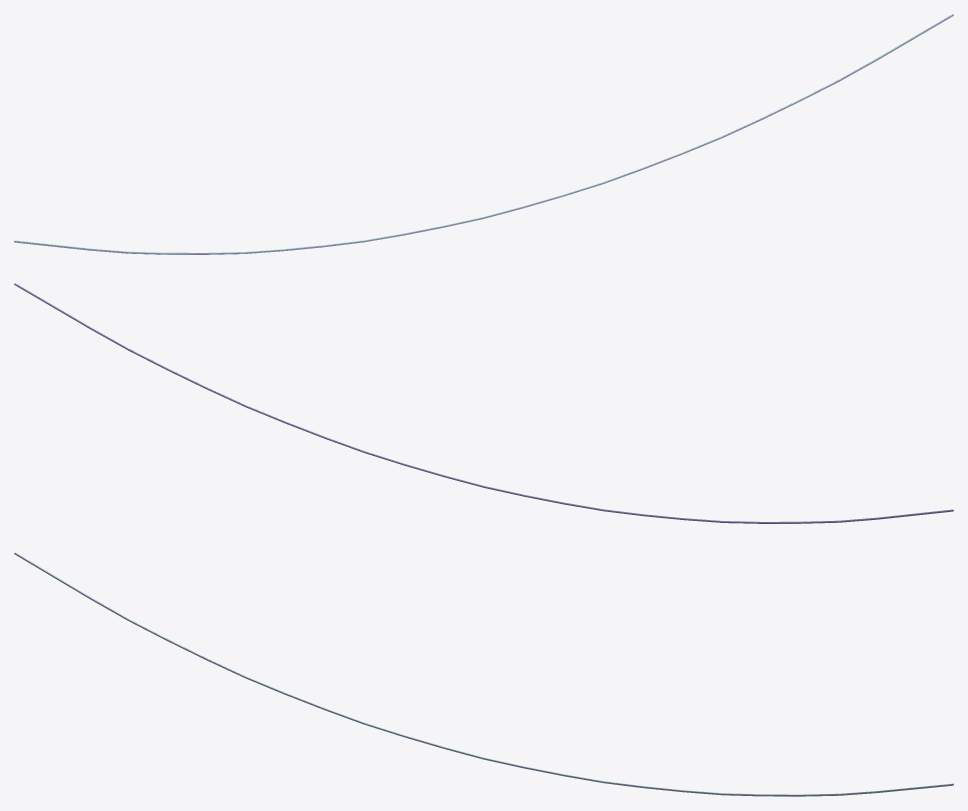
The model's file is LitCableE2.fbx.
3 renders of one model, top to bottom at view 1: azimuth 30°, elevation 25°; view 2: azimuth 150°, elevation 25°; view 3: azimuth 330°, elevation 25°, orthographic.
Visible parts, largest first — view 1: LitCableE2; view 2: LitCableE2; view 3: LitCableE2.
Part boxes in pixels (<box>): LitCableE2: <box>14,14,953,254</box>; LitCableE2: <box>14,283,953,523</box>; LitCableE2: <box>14,552,953,796</box>.
Size of the model in its own units: 1956 by 185 by 3.46.
Materials: 1 (1 with a texture image).
